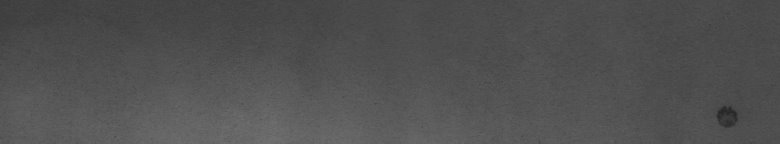fi: (712, 100, 740, 136)
